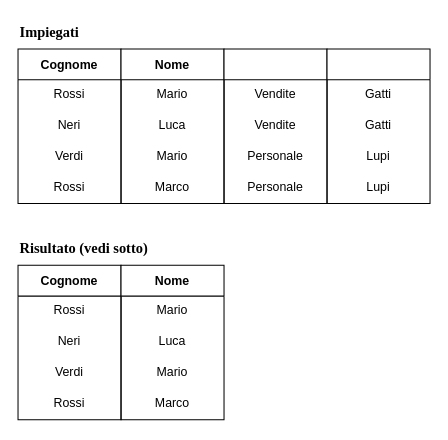
Some shapes in this 448 by 440 pixel diagram are drawn without their labels. Each missing label, with the box of its shape:
Capo: (326, 48, 430, 203)
Reparto: (223, 48, 327, 203)
